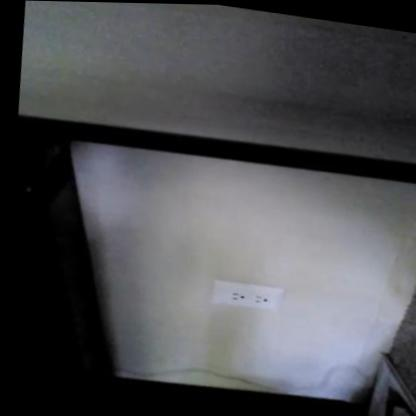OUTLET: (206, 277, 284, 313)
